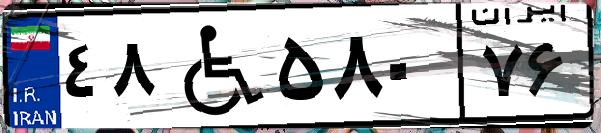0: (385, 28, 445, 110)
4: (57, 26, 110, 100)
5: (270, 28, 330, 110)
6: (525, 38, 570, 115)
7: (475, 38, 525, 113)
8: (330, 28, 385, 110), (110, 28, 158, 98)
ژ (معلولین و جانبازان): (158, 12, 270, 120)
